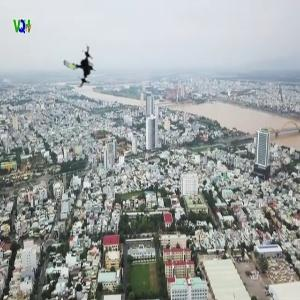drone: (62, 46, 105, 89)
